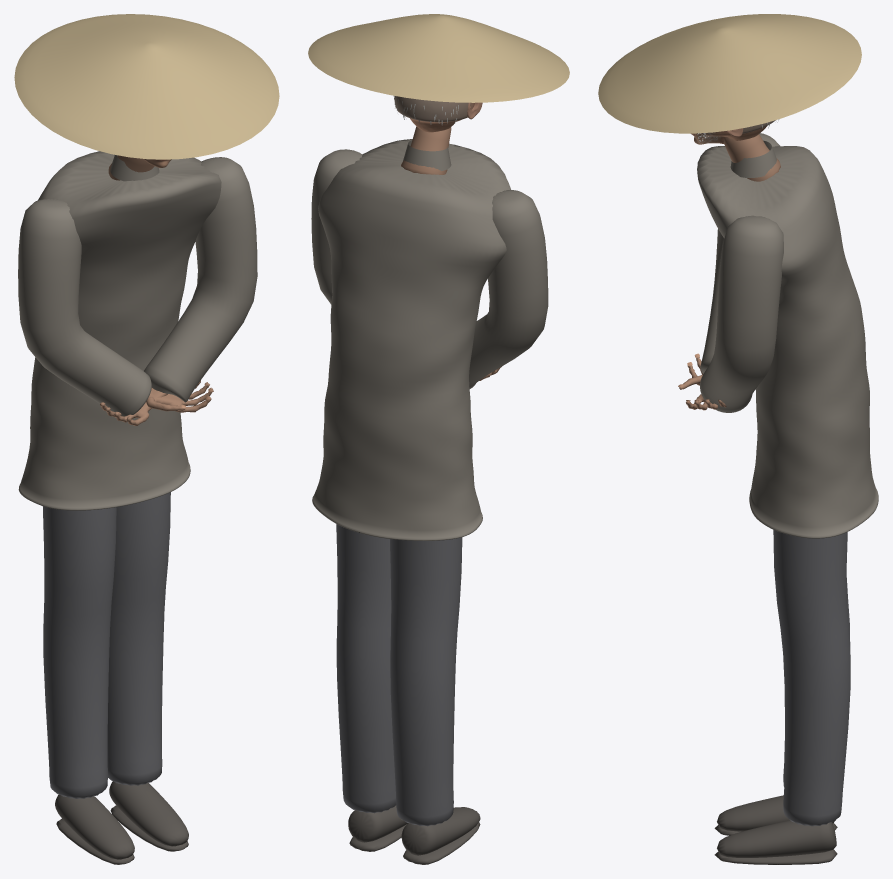
Rendered from townsman.glb.
3 views of the same model, side by side, from view 1: azimuth 30°, elevation 25°; view 2: azimuth 150°, elevation 25°; view 3: azimuth 270°, elevation 25° (orthographic).
Visible parts, largest first — view 1: Torso, Hat, LegL, LegR, SleeveL, SleeveR, FootR, FootL, HandL, Collar, HandR; view 2: Torso, LegL, Hat, LegR, SleeveL, FootL, SleeveR, FootR, Head, Neck, Collar; view 3: Torso, Hat, LegR, SleeveR, FootR, FootL, SleeveL, Neck, Collar, Head.
Boxes of the visible parts, x1,y1,x2,y2 form: Torso: (18, 151, 221, 510); Hat: (14, 14, 279, 159); LegL: (42, 506, 116, 798); LegR: (107, 492, 170, 785); SleeveL: (18, 198, 151, 416); SleeveR: (144, 157, 257, 402); FootR: (109, 781, 188, 851); FootL: (55, 794, 134, 864); HandL: (146, 380, 213, 412); Collar: (110, 155, 159, 181); HandR: (100, 388, 167, 425); Torso: (312, 139, 510, 540); LegL: (390, 537, 462, 826); Hat: (308, 14, 569, 102); LegR: (336, 524, 396, 813); SleeveL: (469, 190, 548, 388); FootL: (401, 807, 480, 864); SleeveR: (311, 149, 362, 304); FootR: (348, 805, 407, 851); Head: (394, 96, 474, 132); Neck: (401, 126, 451, 174); Collar: (403, 140, 451, 170); Torso: (697, 146, 878, 538); Hat: (598, 14, 861, 133); LegR: (773, 530, 850, 826); SleeveR: (700, 215, 783, 412); FootR: (714, 820, 837, 864); FootL: (714, 795, 837, 835); SleeveL: (700, 133, 779, 373); Neck: (723, 134, 780, 181); Collar: (730, 140, 776, 177); Head: (691, 120, 775, 144).
Bounding box in the file's own units: 0.4786 × 1.61 × 0.5025.
13 materials, 2 textured.
